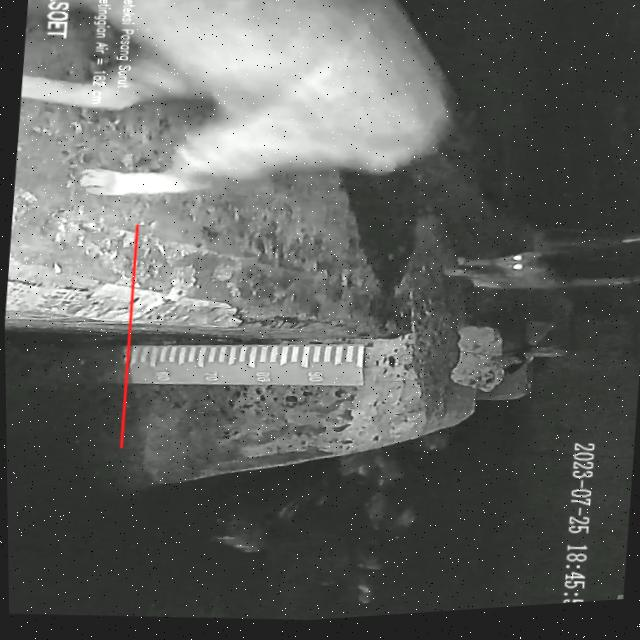water-meter: (91, 319, 370, 411)
